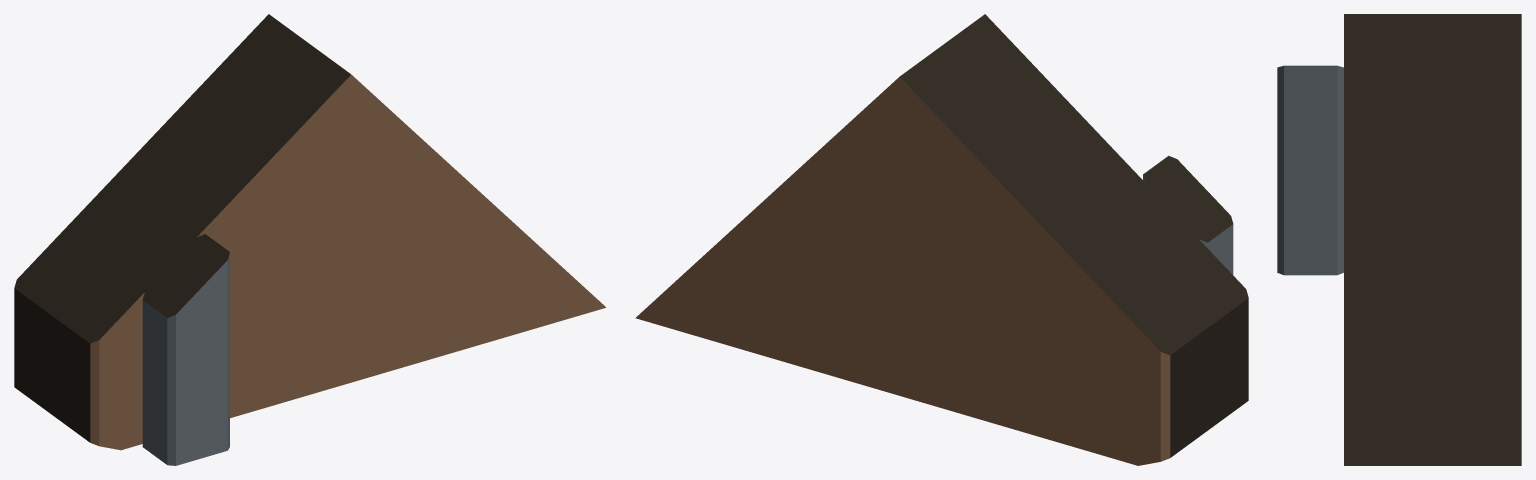
File: SM_DoorShard_02_40.fbx
3 views of the same model, side by side, from view 1: azimuth 30°, elevation 25°; view 2: azimuth 150°, elevation 25°; view 3: azimuth 270°, elevation 25° (orthographic). The views are drawn at different scales.
Visible parts, largest first — view 1: SM_DoorShard_02_40; view 2: SM_DoorShard_02_40; view 3: SM_DoorShard_02_40.
Boxes of the visible parts, x1=… form: SM_DoorShard_02_40: x1=14, y1=14, x2=605, y2=465; SM_DoorShard_02_40: x1=635, y1=14, x2=1248, y2=465; SM_DoorShard_02_40: x1=1277, y1=14, x2=1521, y2=465.
Bounding box in the file's own units: 57.39 × 22 × 34.17.
